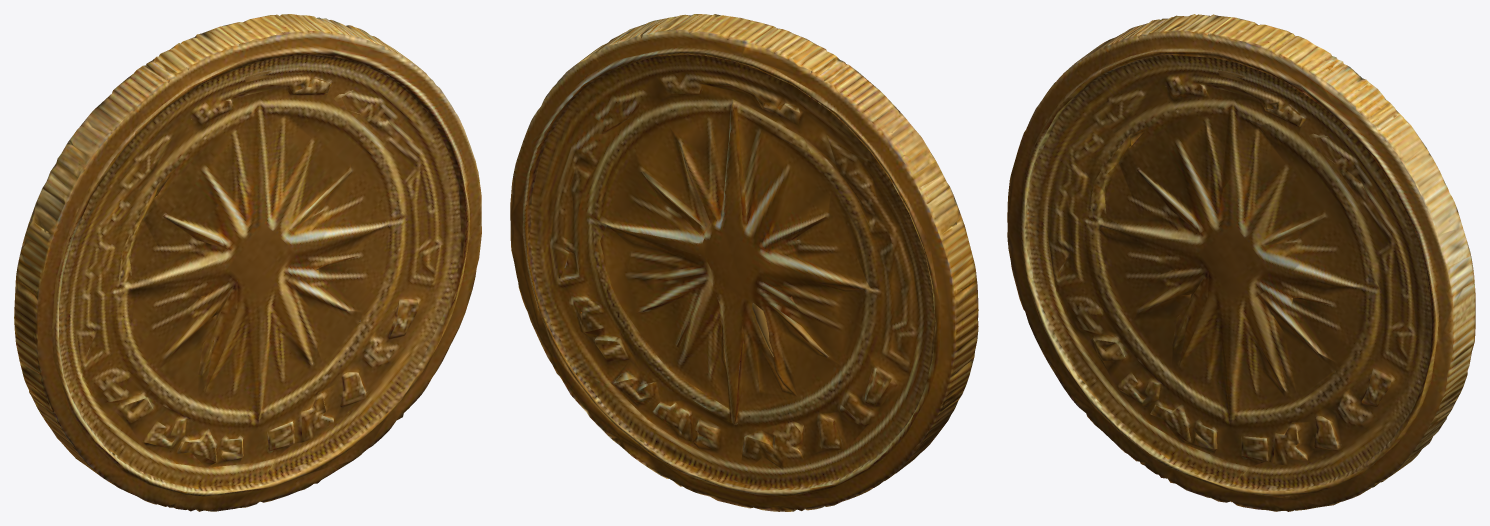
The picture shows the model from 3 angles, left to right: view 1: azimuth 30°, elevation 25°; view 2: azimuth 150°, elevation 25°; view 3: azimuth 330°, elevation 25°; orthographic projection.
Bounding box in the file's own units: 1 × 1 × 0.1113.
Materials: 1 (1 with a texture image).
